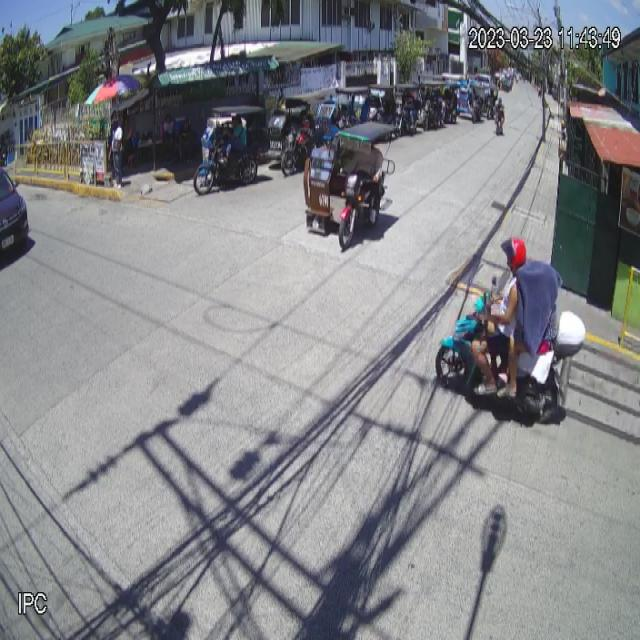Motorcycle: (434, 274, 586, 427)
Tricycle: (302, 120, 397, 250)
